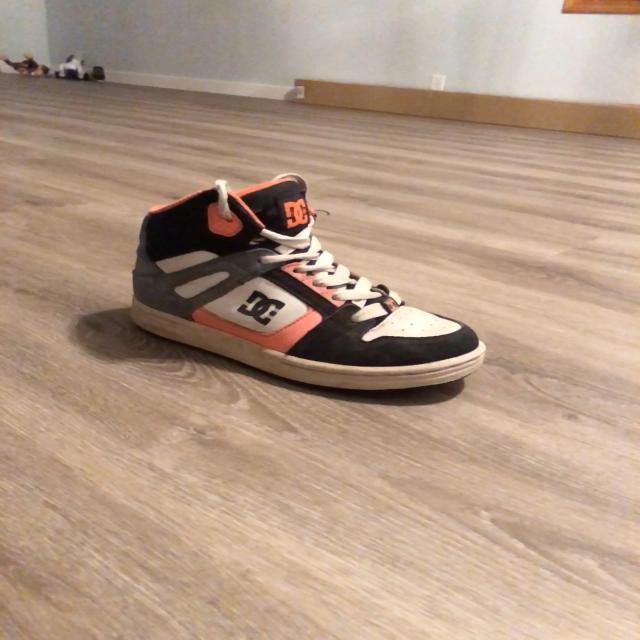shoe: (128, 176, 486, 395)
